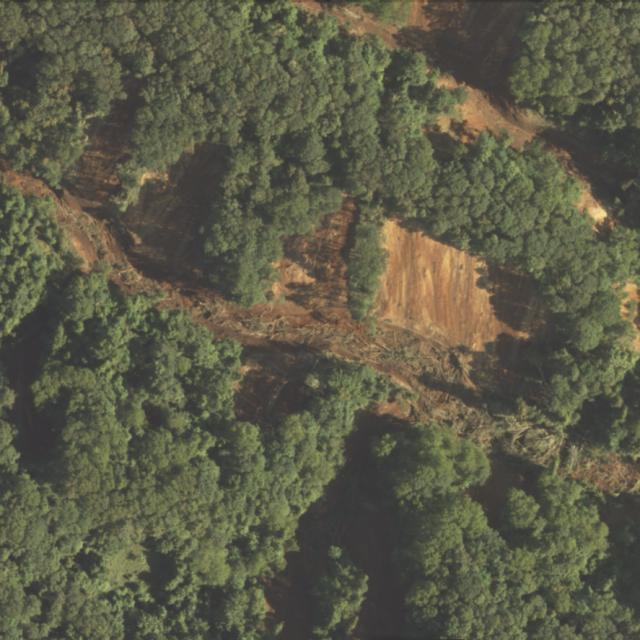landslide: (0, 118, 545, 454), (294, 0, 616, 234), (299, 475, 394, 574)
